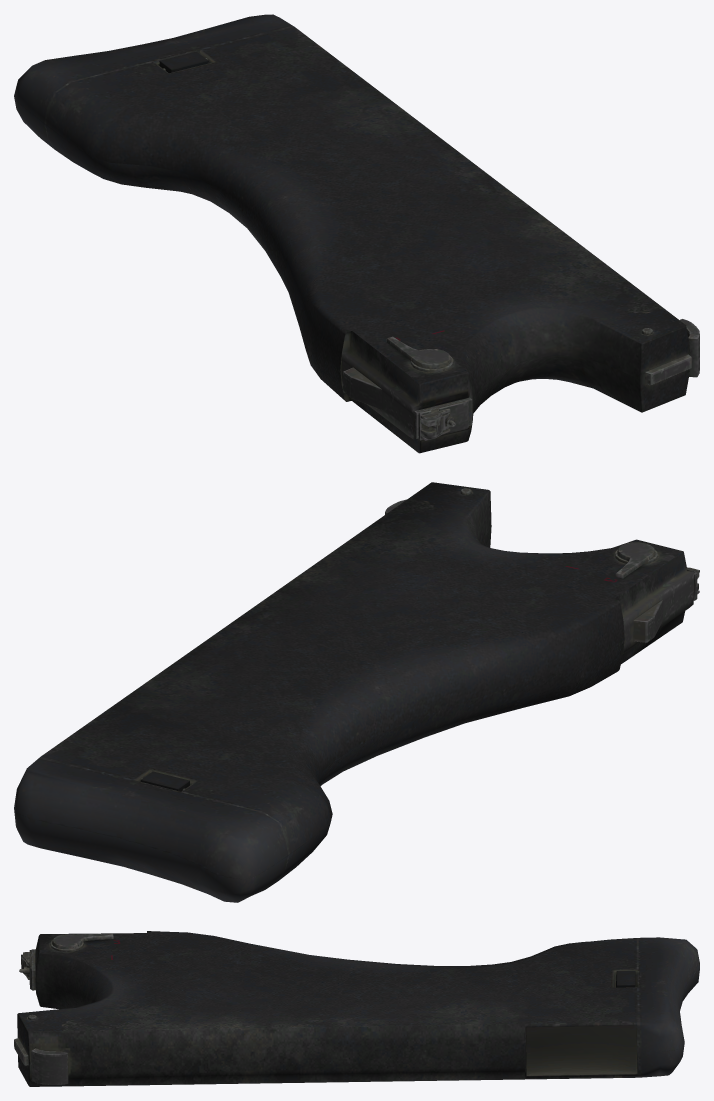
Rendered from sm71_903_vp70stock.fbx.
3 renders of one model, top to bottom at view 1: azimuth 30°, elevation 25°; view 2: azimuth 150°, elevation 25°; view 3: azimuth 270°, elevation 25°, orthographic. The views are drawn at different scales.
Visible parts, largest first — view 1: LOD_1_Group_0_Sub_1__sm71_000_VP70CSParts01A_Mat; view 2: LOD_1_Group_0_Sub_1__sm71_000_VP70CSParts01A_Mat; view 3: LOD_1_Group_0_Sub_1__sm71_000_VP70CSParts01A_Mat.
Boxes of the visible parts, bbox=[...] form: LOD_1_Group_0_Sub_1__sm71_000_VP70CSParts01A_Mat: bbox=[14, 14, 699, 453]; LOD_1_Group_0_Sub_1__sm71_000_VP70CSParts01A_Mat: bbox=[14, 482, 699, 902]; LOD_1_Group_0_Sub_1__sm71_000_VP70CSParts01A_Mat: bbox=[14, 931, 699, 1086].
Size of the model in its own units: 0.1234 by 0.033 by 0.3096.
